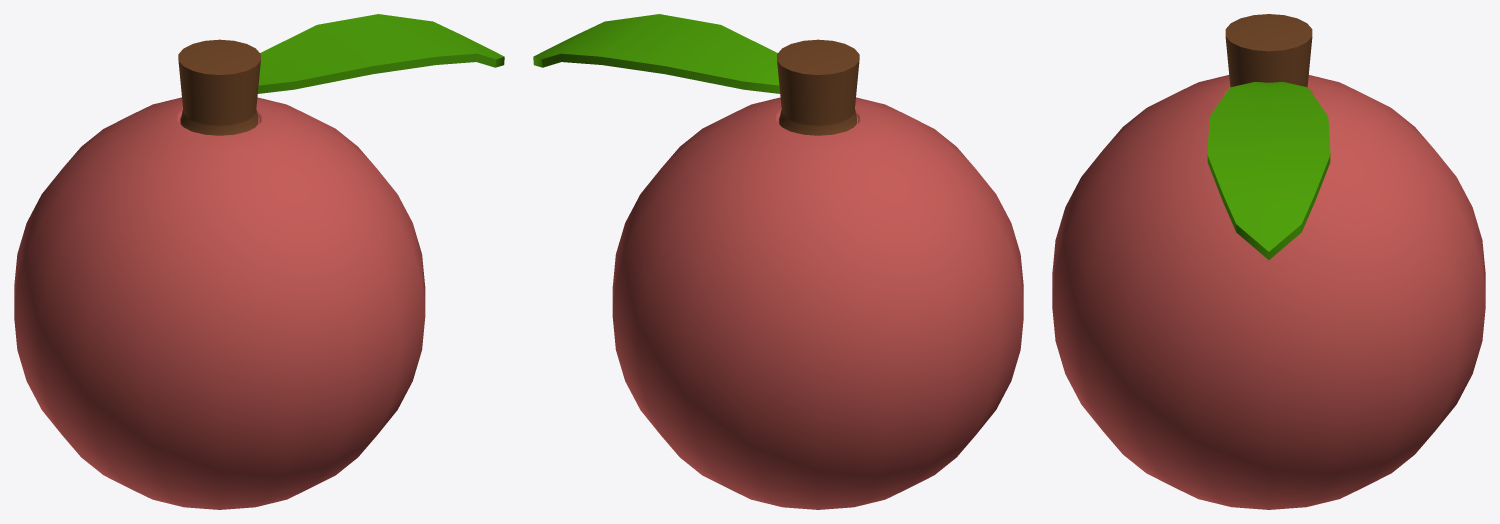
File: Apple.fbx
The picture shows the model from 3 angles, left to right: view 1: azimuth 30°, elevation 25°; view 2: azimuth 150°, elevation 25°; view 3: azimuth 270°, elevation 25°; orthographic projection. The views are drawn at different scales.
Parts seen in each view (by area): view 1: Apple1; view 2: Apple1; view 3: Apple1.
Boxes of the visible parts, <box> form: Apple1: <box>14,14,504,509</box>; Apple1: <box>533,14,1023,509</box>; Apple1: <box>1052,14,1485,509</box>.
Bounding box in the file's own units: 2.58 × 2.31 × 1.97.
